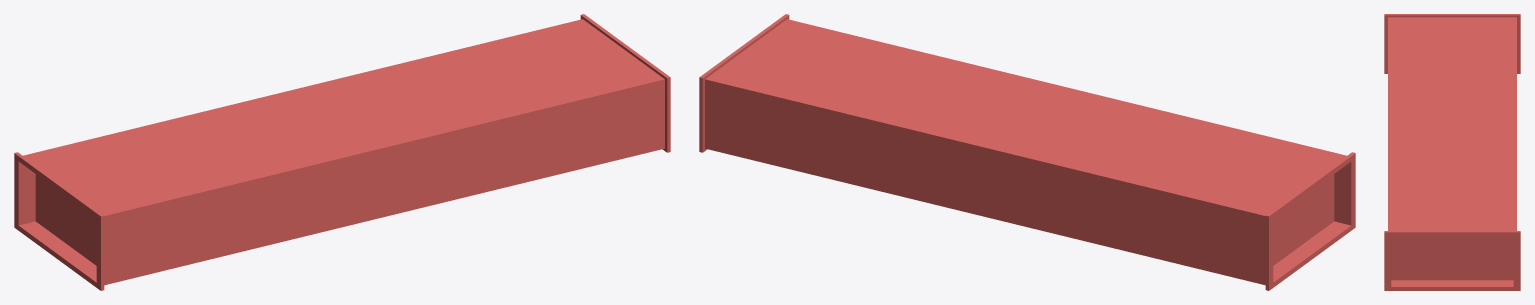
File: SM_PROP_VENT_04.fbx
The picture shows the model from 3 angles, left to right: view 1: azimuth 30°, elevation 25°; view 2: azimuth 150°, elevation 25°; view 3: azimuth 270°, elevation 25°; orthographic projection. The views are drawn at different scales.
Visible parts, largest first — view 1: SM_PROP_VENT_04; view 2: SM_PROP_VENT_04; view 3: SM_PROP_VENT_04.
Boxes of the visible parts, x1,y1,x2,y2 form: SM_PROP_VENT_04: (14,14,670,290); SM_PROP_VENT_04: (699,14,1355,290); SM_PROP_VENT_04: (1384,14,1520,290).
Bounding box in the file's own units: 4 × 0.5 × 1.05.
